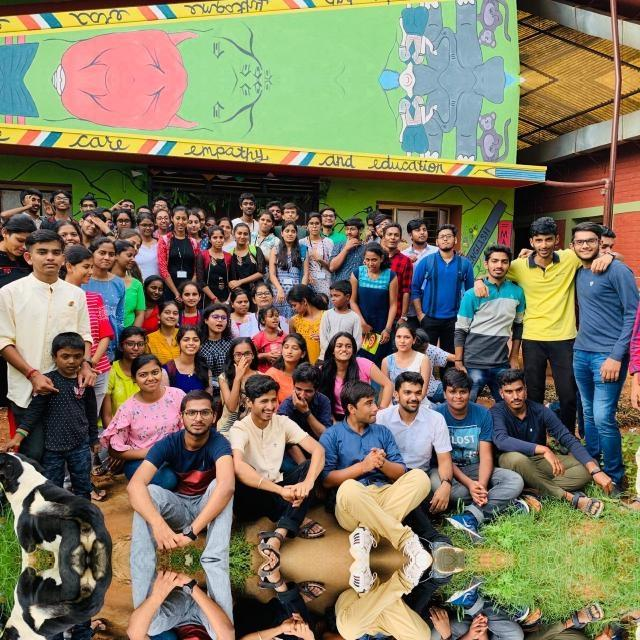person: (573, 215, 640, 499), (514, 200, 584, 438), (140, 389, 232, 555), (496, 363, 604, 501), (330, 374, 410, 560), (234, 370, 310, 554), (430, 370, 508, 542), (9, 226, 86, 358), (458, 228, 520, 382), (386, 368, 452, 488), (414, 220, 471, 344), (140, 565, 232, 640), (329, 560, 410, 640), (234, 565, 310, 640), (347, 236, 398, 342), (384, 318, 441, 404), (430, 578, 507, 640), (150, 198, 200, 286), (326, 328, 380, 392), (150, 297, 192, 369), (226, 220, 266, 294), (270, 326, 314, 386), (270, 222, 306, 294), (202, 303, 235, 375), (496, 619, 604, 640), (174, 276, 208, 336), (573, 621, 640, 640), (386, 632, 452, 640)
